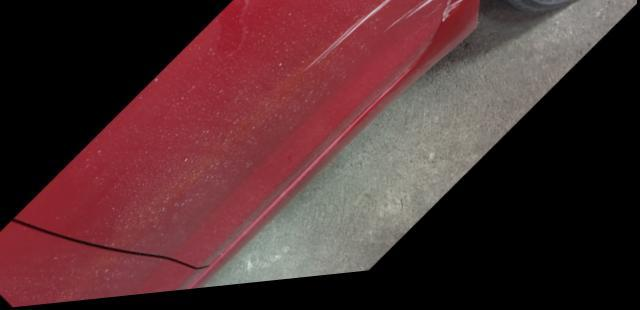scratch: (300, 0, 451, 80), (438, 0, 474, 34)
